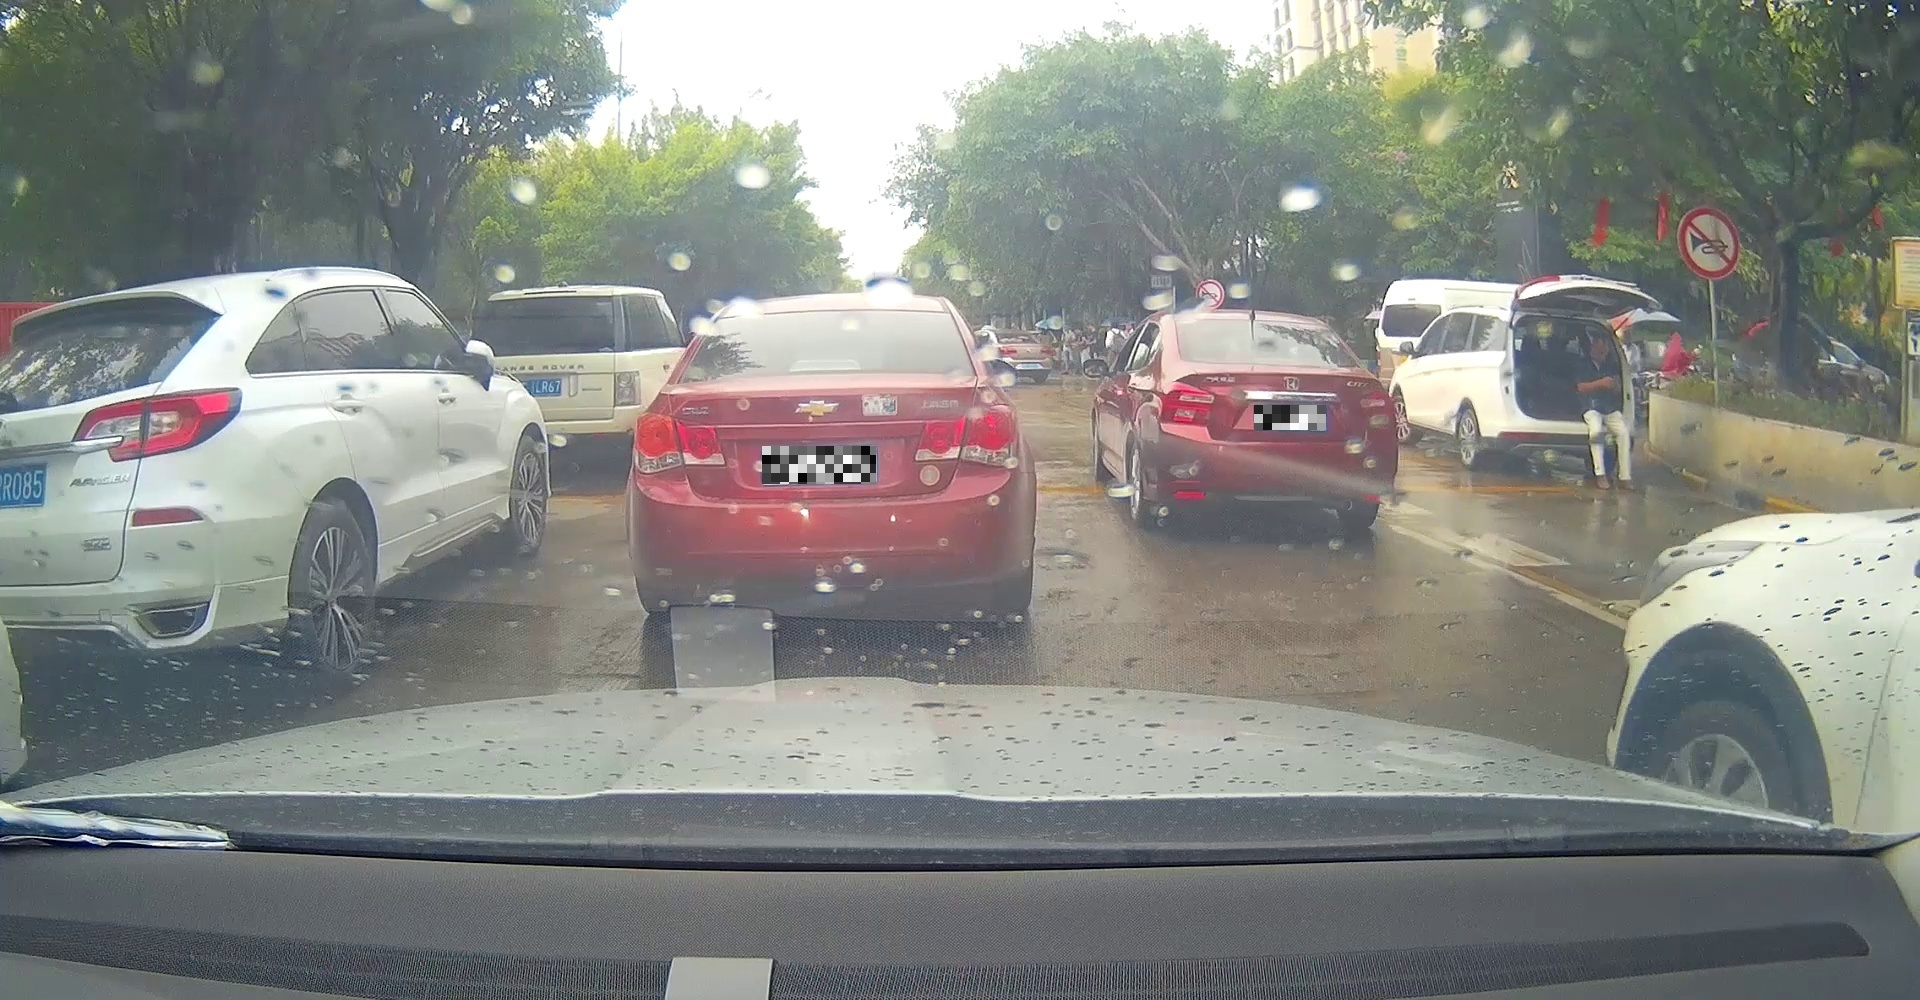L_light: (632, 411, 726, 472), (1158, 381, 1213, 423)
R_light: (916, 404, 1018, 464), (1357, 390, 1396, 426)
T_light: (790, 360, 861, 371), (1247, 321, 1283, 327)
day-no: (625, 297, 1036, 612), (1157, 313, 1398, 530)
plate_1: (762, 445, 876, 484)
plate_2: (1255, 405, 1326, 430)
